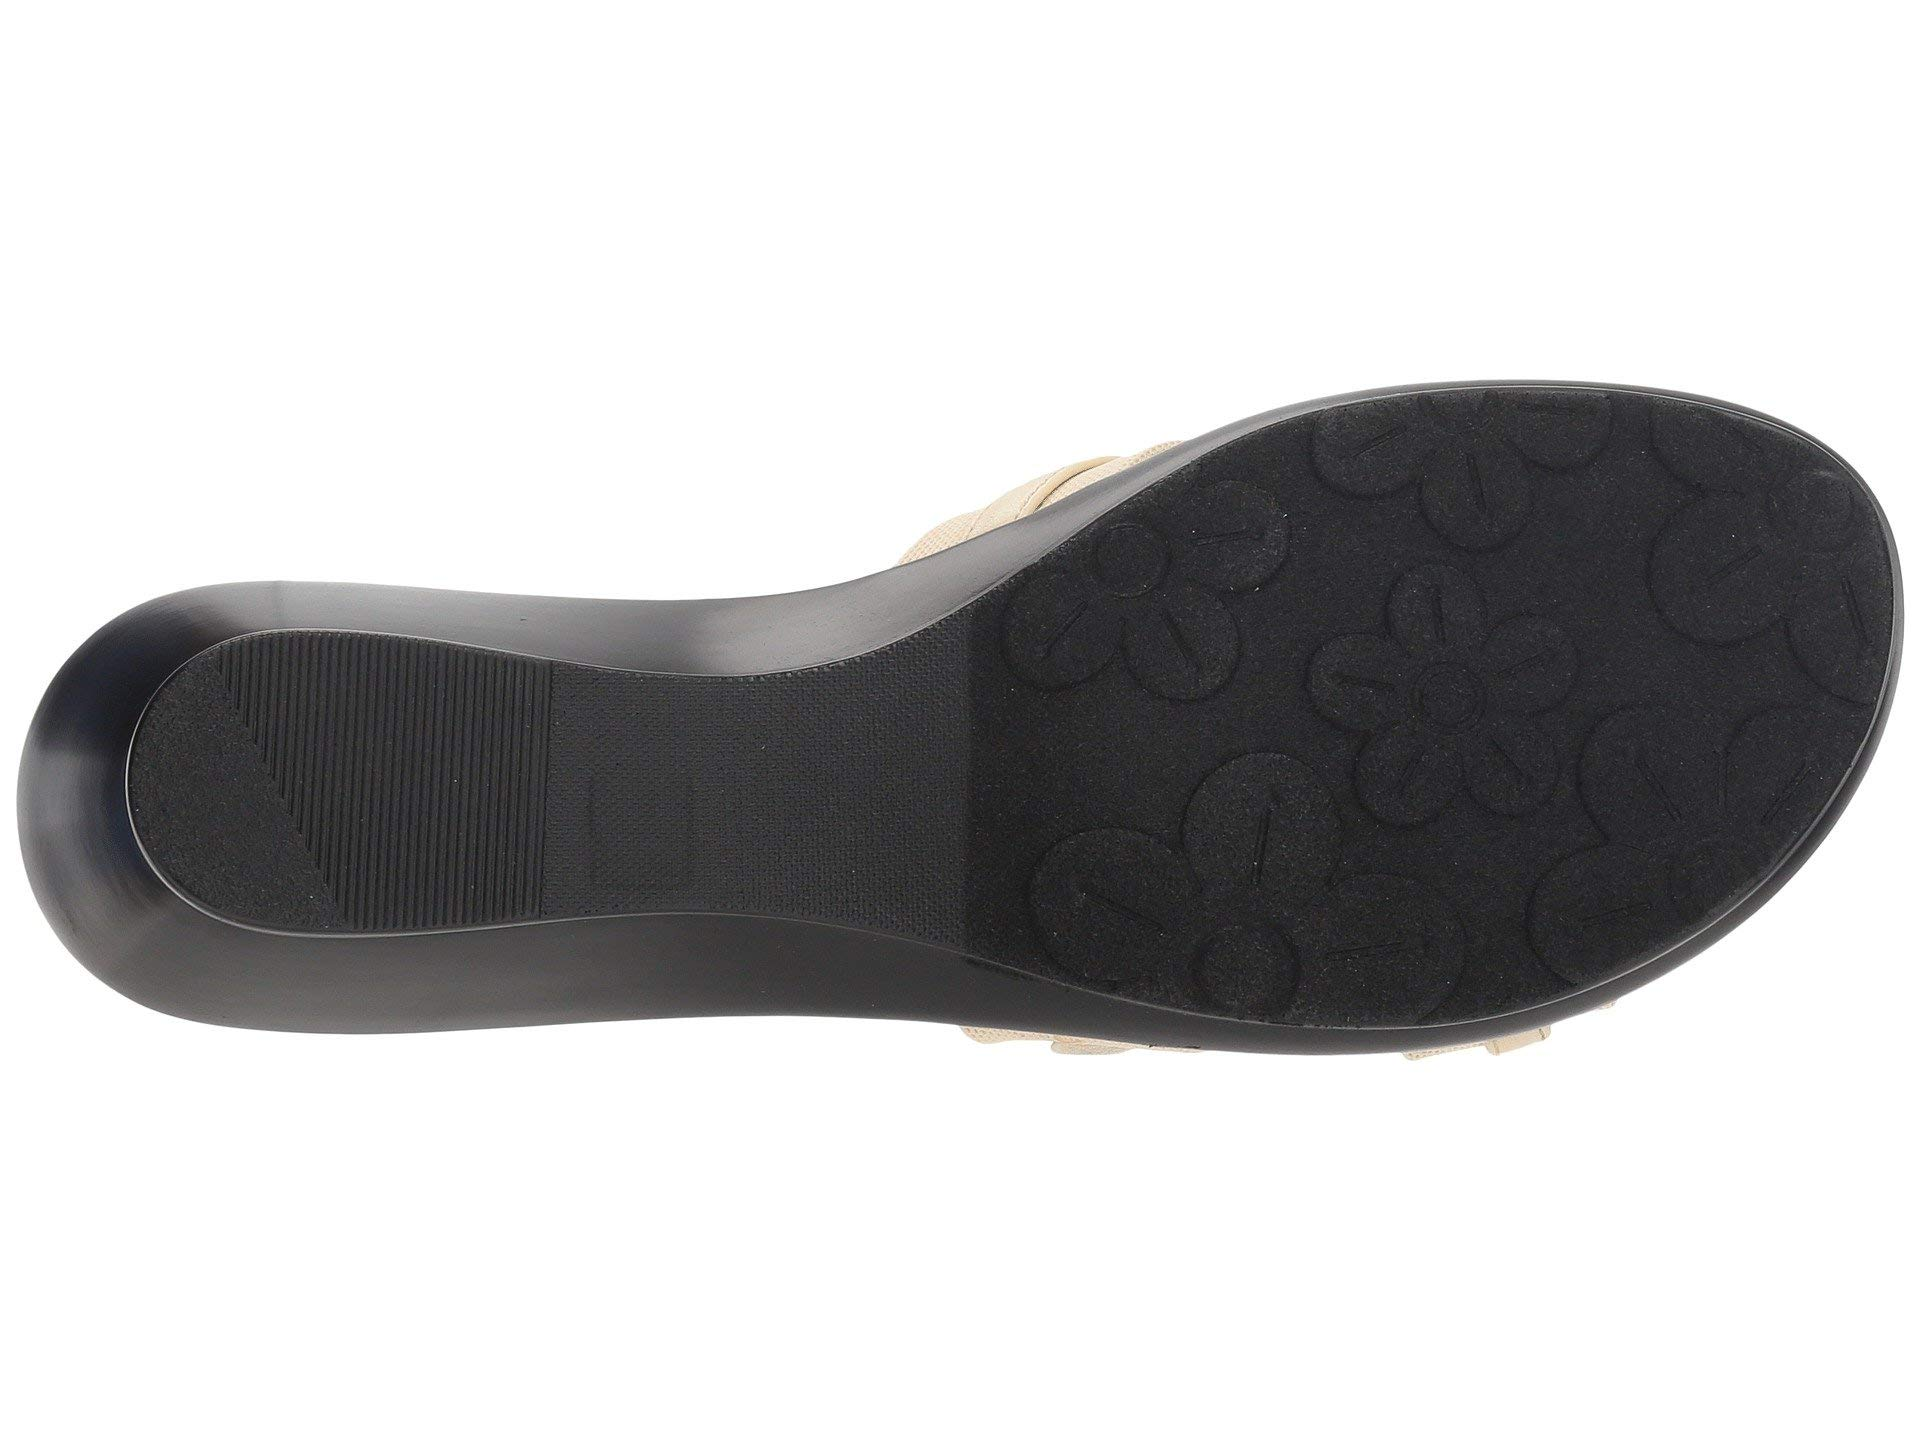circle: (1736, 439, 1870, 573), (1069, 514, 1191, 611), (1398, 643, 1494, 749)
line: (255, 684, 553, 873)
